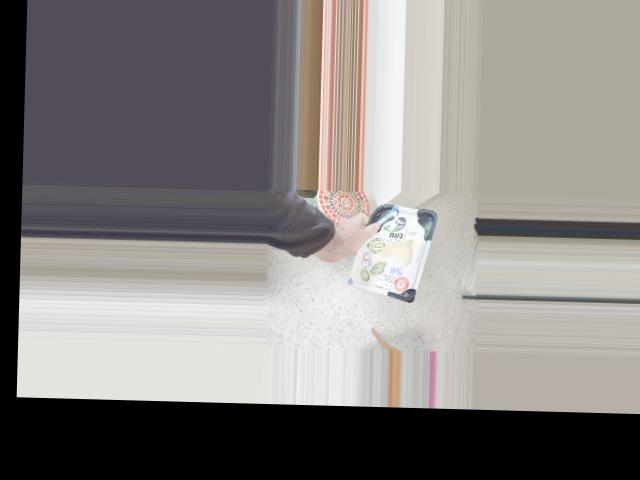cheese: (347, 201, 438, 298)
